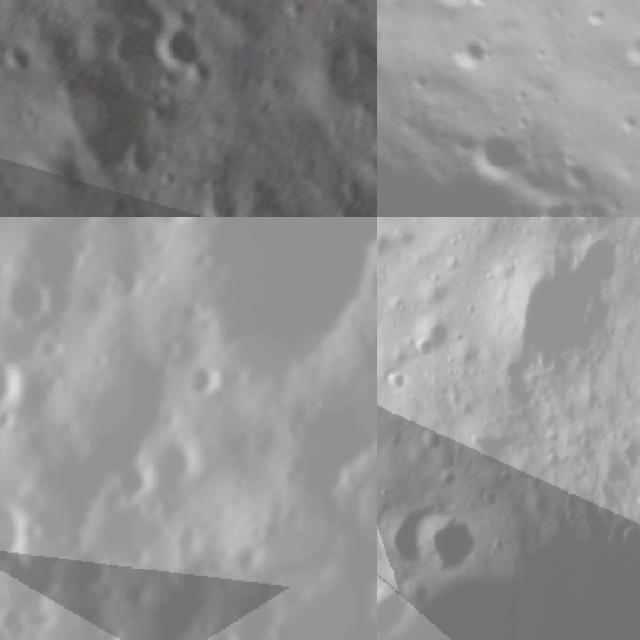crater: (29, 42, 183, 196), (139, 9, 233, 102), (0, 256, 77, 345), (138, 424, 218, 503), (0, 478, 51, 597), (38, 0, 200, 37), (463, 118, 545, 182), (0, 342, 45, 436), (420, 514, 480, 574), (176, 353, 235, 412), (86, 186, 183, 217), (378, 506, 425, 569), (138, 217, 218, 248), (448, 30, 497, 78), (166, 289, 212, 336), (525, 186, 590, 217), (131, 486, 175, 530), (185, 612, 251, 640), (377, 589, 404, 640), (324, 193, 377, 217), (432, 457, 456, 494), (417, 424, 441, 458), (381, 365, 407, 389), (479, 478, 496, 505)
